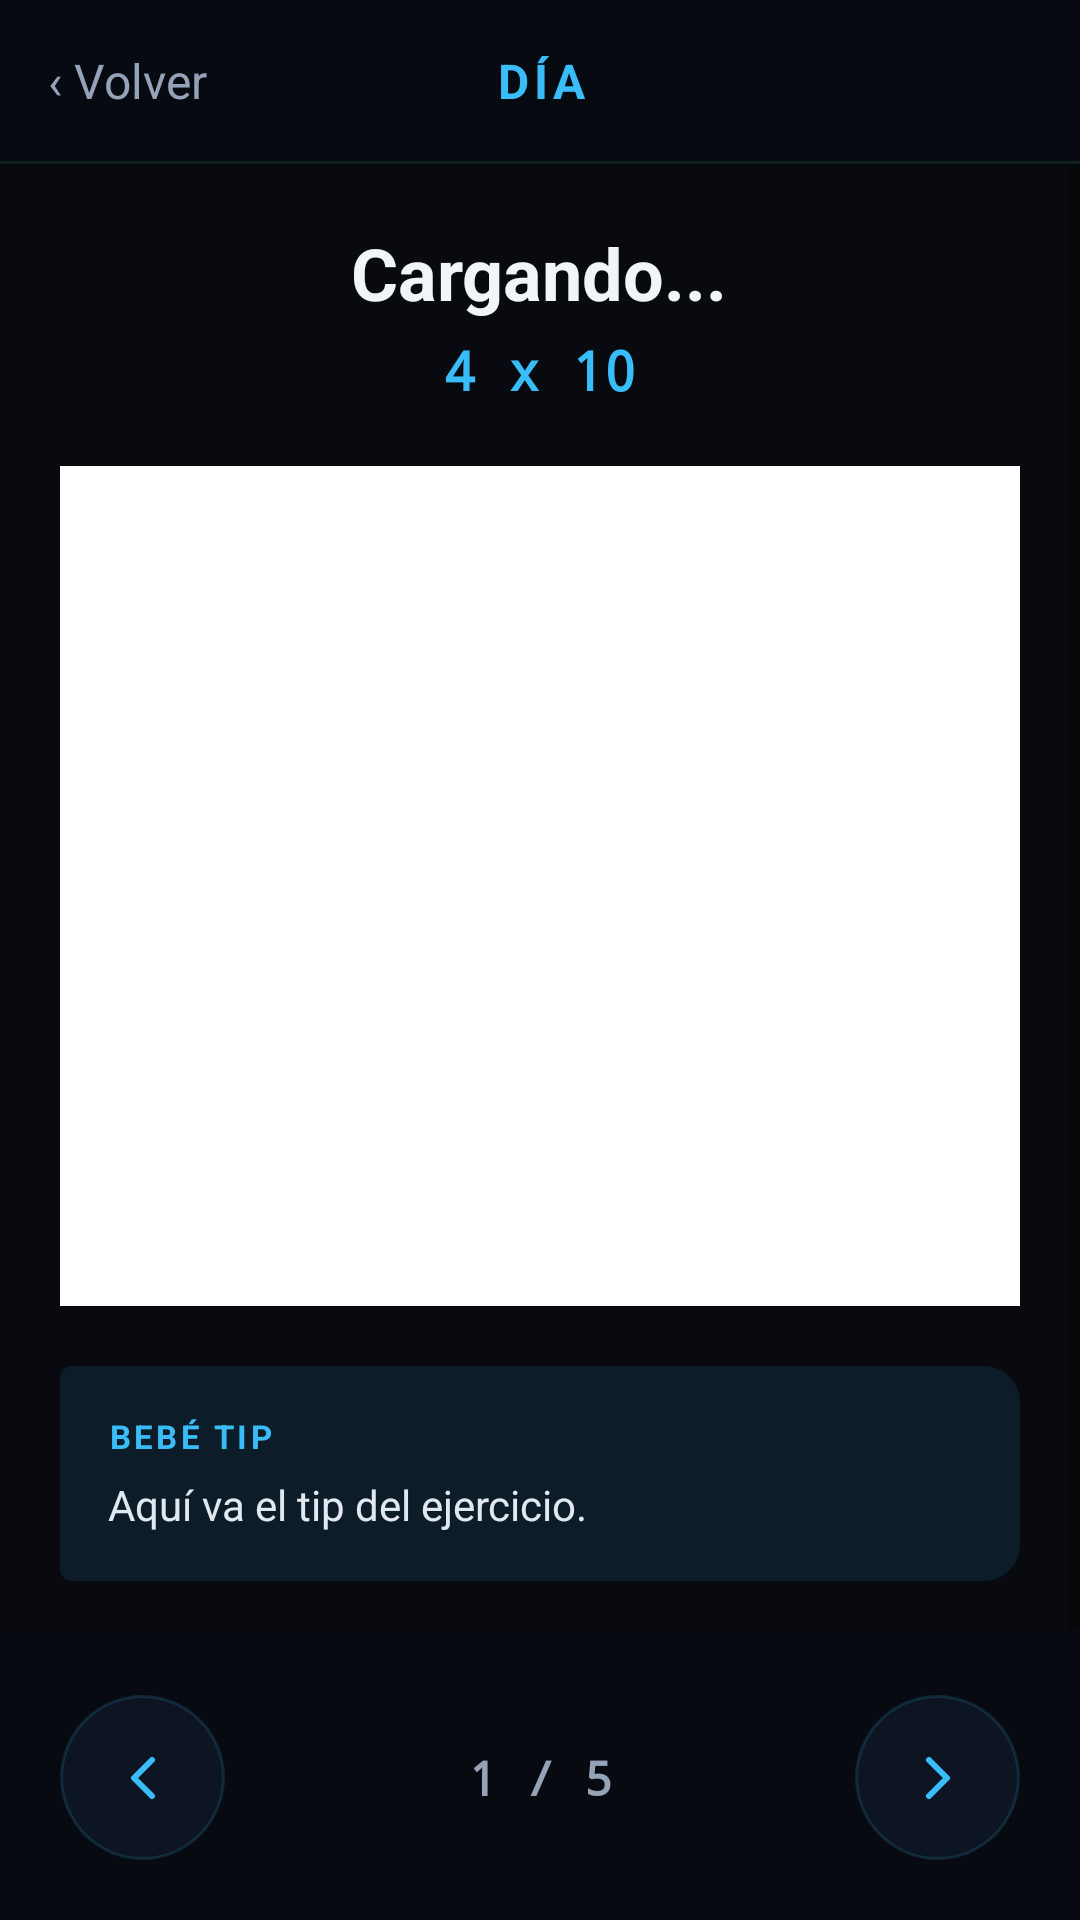

Where to tap for icons on this 1080px×1920px app screen, as [x,y]:
Anterior: [142,1777]
Siguiente: [937,1777]
